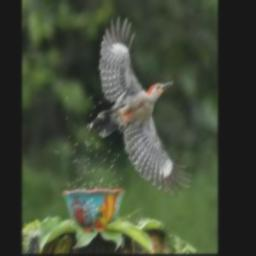Woodpecker: (92, 17, 192, 193)
